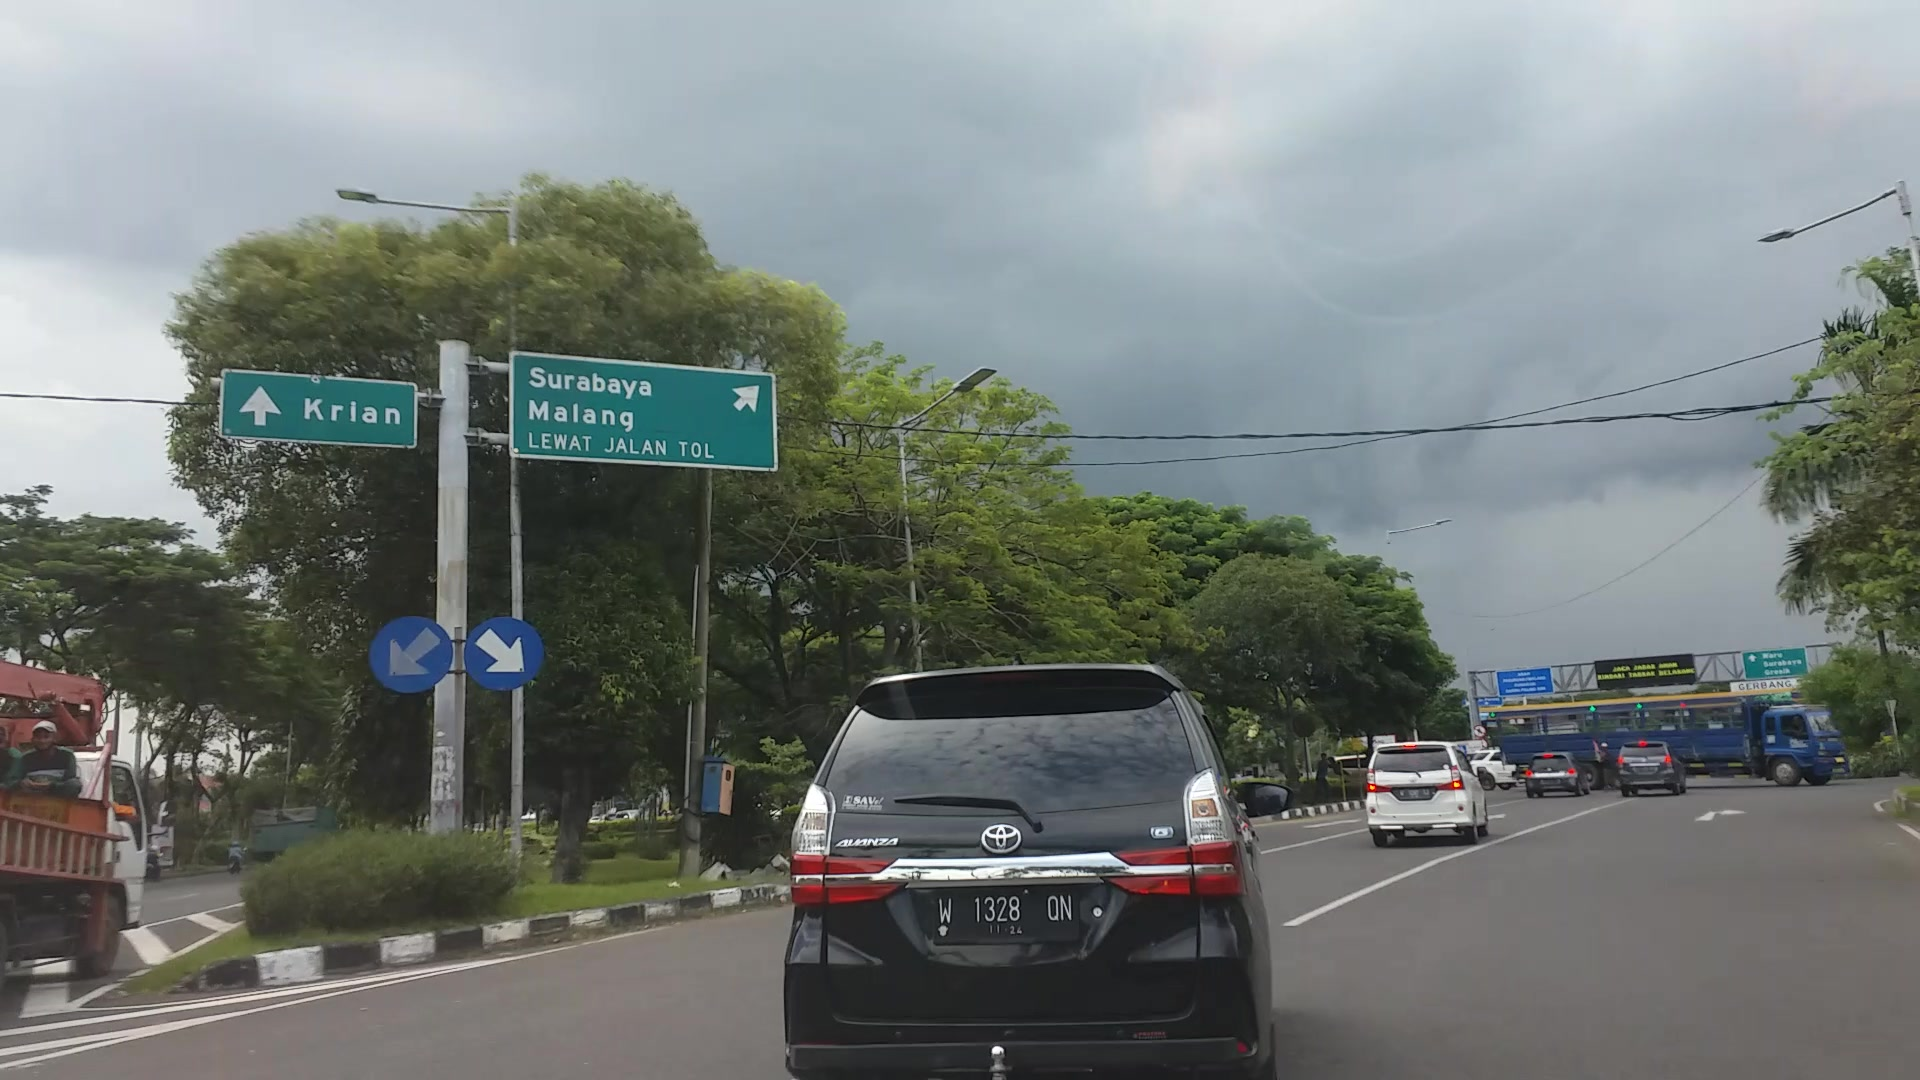plate_positive: (934, 887, 1077, 943)
